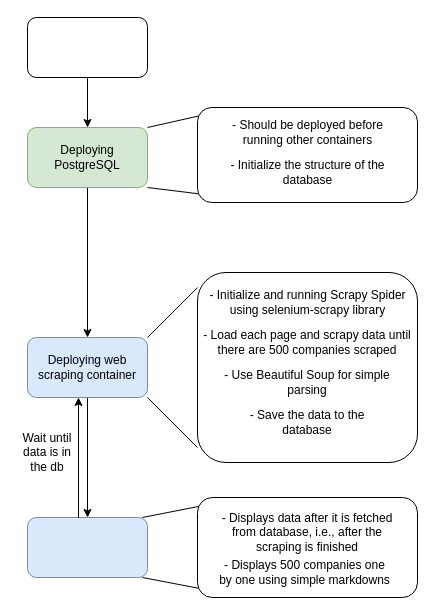
Some shapes in this 435 by 615 pixel diagram are drawn without their labels. The box of each missing label's shape, as (x1, y1, x2, y2) in pixels:
Deploying Streamlit app: (26, 516, 148, 578)
docker compose up: (26, 16, 148, 78)
